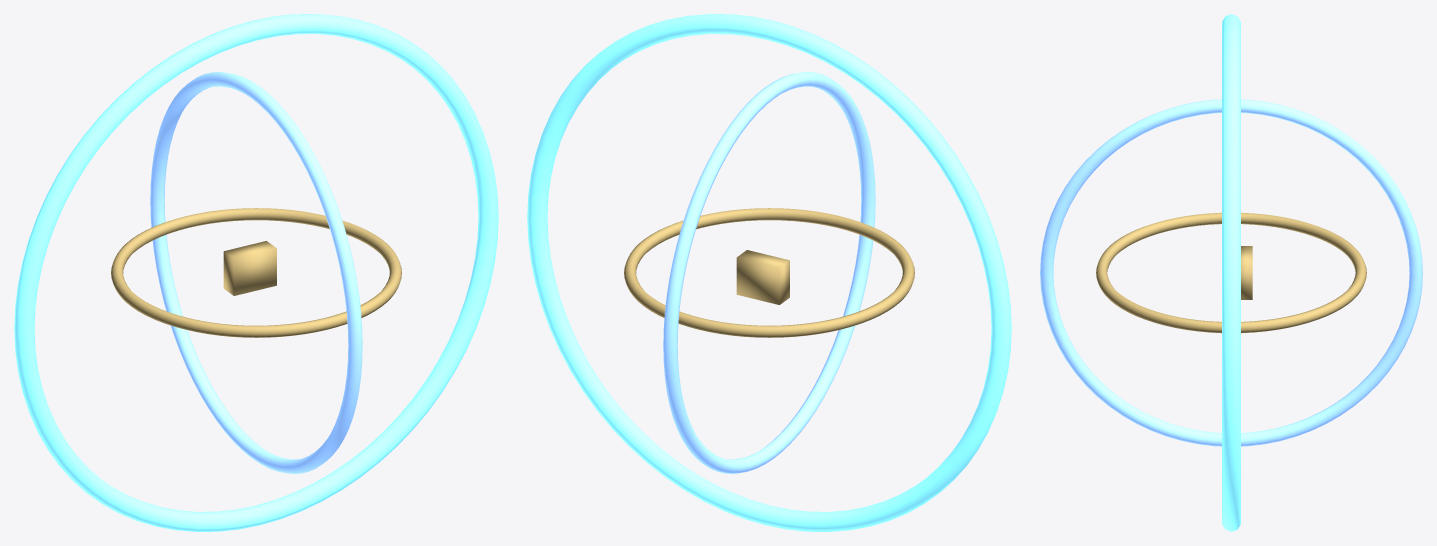
Rendered from L84_13_OpticalGroundStationAimReticle_Fitted.fbx.
3 renders of one model, left to right at view 1: azimuth 30°, elevation 25°; view 2: azimuth 150°, elevation 25°; view 3: azimuth 270°, elevation 25°, orthographic. The views are drawn at different scales.
Visible parts, largest first — view 1: L84_OpticalGroundStationAimReticle_Static__tint38CCFC, L84_OpticalGroundStationAimReticle_Static__tint3D78F5, L84_OpticalGroundStationAimReticle_Static__tintF2B547, L84_OpticalGroundStationAimReticle_ANIM_GROUND_STATION_TARGE; view 2: L84_OpticalGroundStationAimReticle_Static__tint38CCFC, L84_OpticalGroundStationAimReticle_Static__tint3D78F5, L84_OpticalGroundStationAimReticle_Static__tintF2B547, L84_OpticalGroundStationAimReticle_ANIM_GROUND_STATION_TARGE; view 3: L84_OpticalGroundStationAimReticle_Static__tint3D78F5, L84_OpticalGroundStationAimReticle_Static__tint38CCFC, L84_OpticalGroundStationAimReticle_Static__tintF2B547, L84_OpticalGroundStationAimReticle_ANIM_GROUND_STATION_TARGE.
Boxes of the visible parts, x1,y1,x2,y2 form: L84_OpticalGroundStationAimReticle_Static__tint38CCFC: [14, 14, 498, 531]; L84_OpticalGroundStationAimReticle_Static__tint3D78F5: [150, 72, 362, 473]; L84_OpticalGroundStationAimReticle_Static__tintF2B547: [111, 208, 401, 337]; L84_OpticalGroundStationAimReticle_ANIM_GROUND_STATION_TARGE: [223, 241, 276, 295]; L84_OpticalGroundStationAimReticle_Static__tint38CCFC: [527, 14, 1011, 531]; L84_OpticalGroundStationAimReticle_Static__tint3D78F5: [663, 72, 875, 473]; L84_OpticalGroundStationAimReticle_Static__tintF2B547: [624, 208, 914, 337]; L84_OpticalGroundStationAimReticle_ANIM_GROUND_STATION_TARGE: [736, 250, 789, 304]; L84_OpticalGroundStationAimReticle_Static__tint3D78F5: [1040, 99, 1422, 446]; L84_OpticalGroundStationAimReticle_Static__tint38CCFC: [1222, 14, 1240, 531]; L84_OpticalGroundStationAimReticle_Static__tintF2B547: [1096, 212, 1366, 333]; L84_OpticalGroundStationAimReticle_ANIM_GROUND_STATION_TARGE: [1241, 246, 1252, 299].
Bounding box in the file's own units: 12.96 × 12.96 × 9.58.
